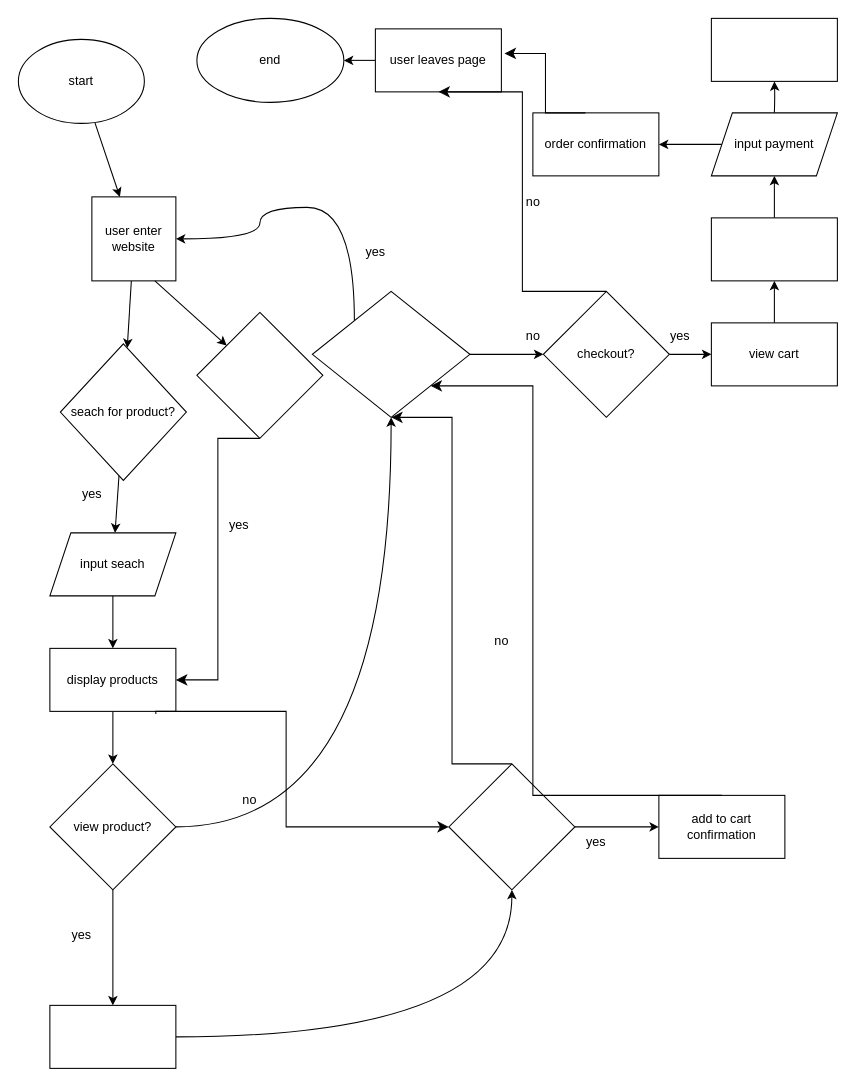
This 856x1087 diagram has some shape labels left out. Here are the shapes that lost their labels. From the top down, the centre of each, then its label:
At (773,49): "email confirmation".
At (773,249): "view payment".
At (390,353): "continue shopping ?".
At (259,374): "explore webpage?".
At (511,826): "add to cart?".
At (112,1036): "open product page".
